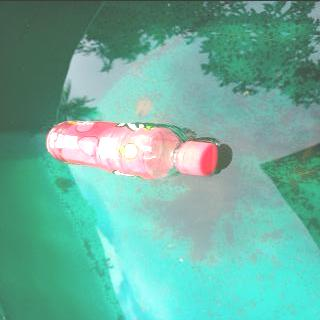bottle: (41, 118, 220, 180)
